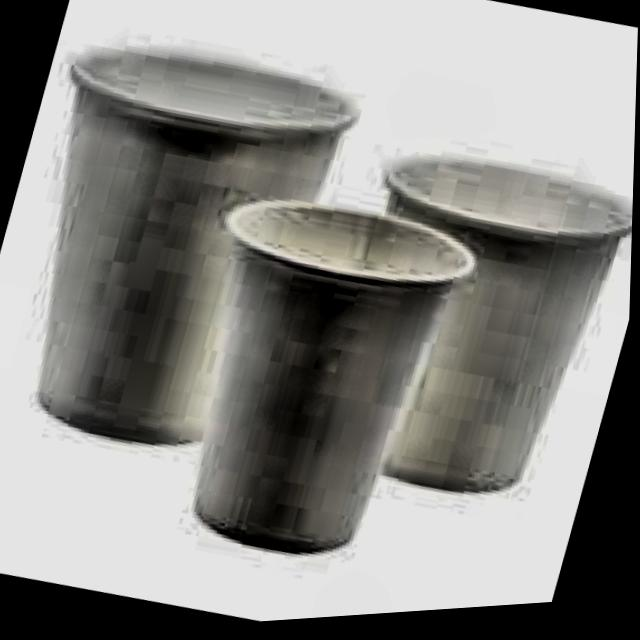Cup: (0, 5, 370, 492), (140, 177, 481, 600), (299, 120, 636, 539)
